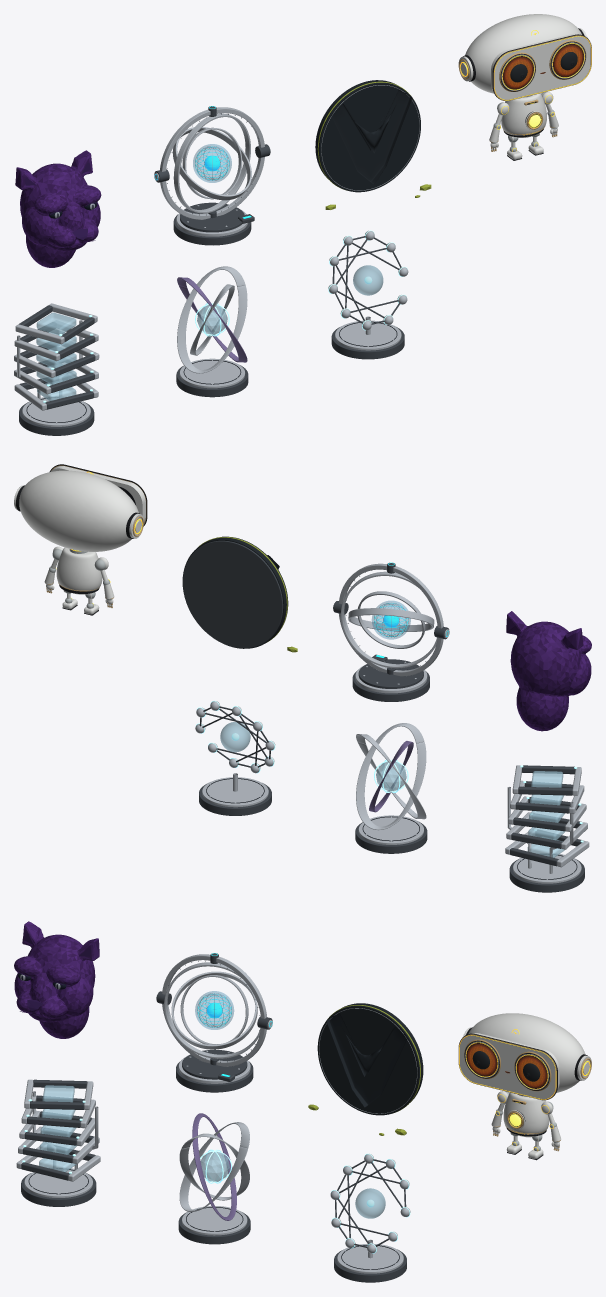
File: agent.glb
3 renders of one model, top to bottom at view 1: azimuth 30°, elevation 25°; view 2: azimuth 150°, elevation 25°; view 3: azimuth 330°, elevation 25°, orthographic.
Parts seen in each view (by area): view 1: Continuous anatomical crystal bust, Obsidian emblem body, Oval ceramic cranial shell, Sculpted obsidian V, Inset curved face plate, Structural outer gimbal, Creative ribbon 0, NETWORK_MASTER polished step, CREATION_MASTER polished step, Inner gimbal | yaw, STRATA_MASTER polished step, Continuous pear-shaped torso (+15 smaller); view 2: Rear anodized shell, Oval ceramic cranial shell, Continuous anatomical crystal bust, Creative ribbon 2, Structural outer gimbal, Continuous pear-shaped torso, NETWORK_MASTER polished step, CREATION_MASTER polished step, STRATA_MASTER polished step, Inner gimbal | pitch, Dark recessed plinth, Inner gimbal | yaw (+12 smaller); view 3: Continuous anatomical crystal bust, Obsidian emblem body, Oval ceramic cranial shell, Sculpted obsidian V, Inset curved face plate, Structural outer gimbal, NETWORK_MASTER polished step, CREATION_MASTER polished step, STRATA_MASTER polished step, Continuous pear-shaped torso, Creative ribbon 0, Sapphire central optical orb (+15 smaller).
Part boxes in pixels (x1,y1,x2,y2): Continuous anatomical crystal bust: (15, 150, 101, 267); Obsidian emblem body: (315, 80, 420, 192); Oval ceramic cranial shell: (465, 14, 581, 93); Sculpted obsidian V: (331, 90, 412, 184); Inset curved face plate: (491, 33, 590, 99); Structural outer gimbal: (160, 107, 264, 219); Creative ribbon 0: (177, 266, 247, 373); NETWORK_MASTER polished step: (335, 320, 401, 350); CREATION_MASTER polished step: (179, 358, 245, 388); Inner gimbal | yaw: (173, 113, 250, 213); STRATA_MASTER polished step: (22, 396, 90, 426); Continuous pear-shaped torso: (501, 93, 546, 137); Rear anodized shell: (183, 540, 283, 648); Oval ceramic cranial shell: (19, 470, 138, 551); Continuous anatomical crystal bust: (506, 611, 591, 731); Creative ribbon 2: (356, 723, 426, 830); Structural outer gimbal: (338, 563, 443, 676); Continuous pear-shaped torso: (56, 547, 102, 594); NETWORK_MASTER polished step: (202, 777, 268, 807); CREATION_MASTER polished step: (358, 815, 423, 844); STRATA_MASTER polished step: (513, 853, 581, 883); Inner gimbal | pitch: (348, 608, 434, 631); Dark recessed plinth: (358, 659, 423, 688); Inner gimbal | yaw: (340, 571, 437, 668); Continuous anatomical crystal bust: (14, 921, 99, 1038); Obsidian emblem body: (317, 1003, 423, 1115); Oval ceramic cranial shell: (468, 1013, 585, 1092); Sculpted obsidian V: (326, 1013, 407, 1107); Inset curved face plate: (459, 1033, 559, 1098); Structural outer gimbal: (162, 954, 266, 1066); NETWORK_MASTER polished step: (337, 1243, 403, 1273); CREATION_MASTER polished step: (182, 1206, 247, 1235); STRATA_MASTER polished step: (24, 1168, 92, 1197); Continuous pear-shaped torso: (503, 1092, 549, 1137); Creative ribbon 0: (179, 1122, 249, 1211); Sapphire central optical orb: (195, 991, 233, 1029).
Size of the model in its own units: 11.57 by 5.63 by 1.65.
Materials: 34 (1 with a texture image).
